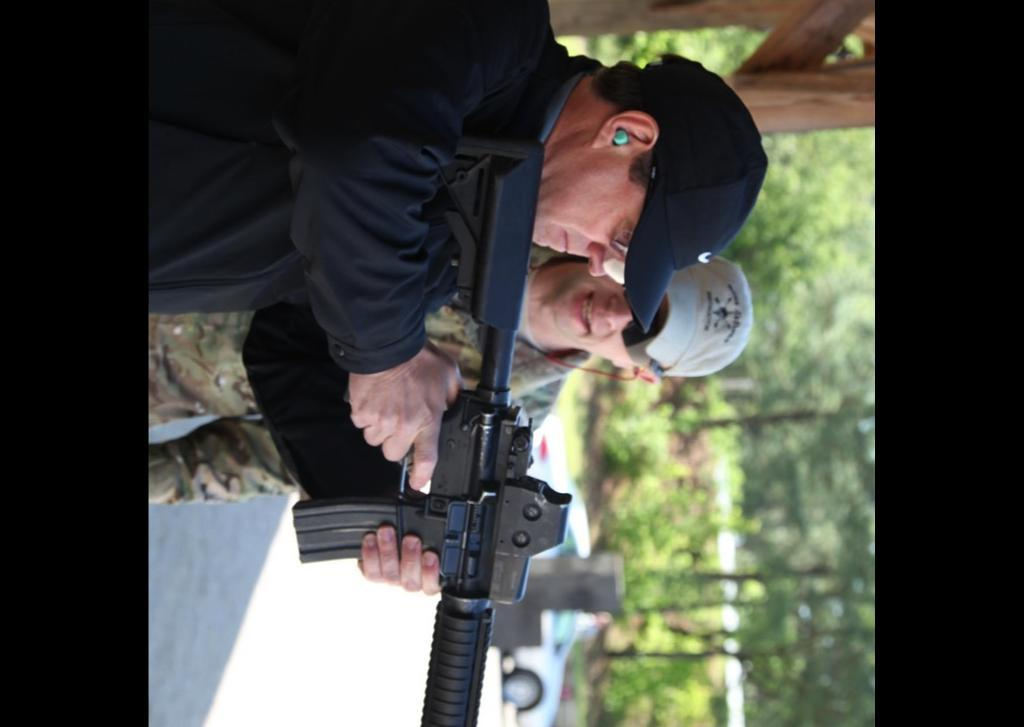gun: (291, 139, 570, 727)
